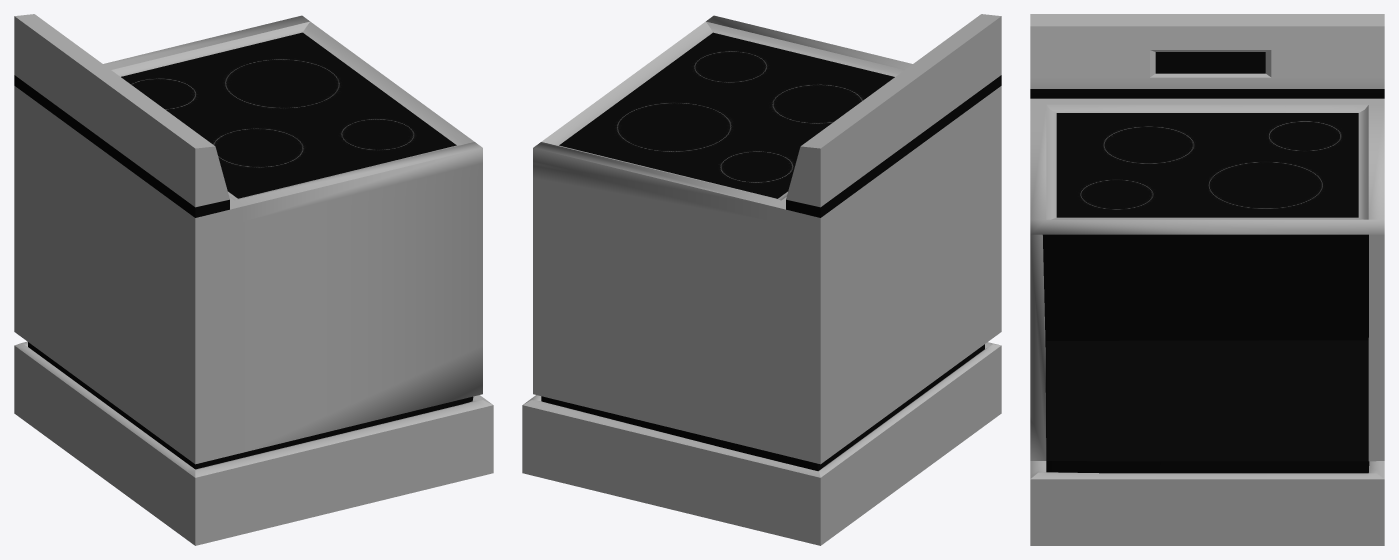
The model's file is Oven.fbx.
3 renders of one model, left to right at view 1: azimuth 30°, elevation 25°; view 2: azimuth 150°, elevation 25°; view 3: azimuth 270°, elevation 25°, orthographic. The views are drawn at different scales.
Visible parts, largest first — view 1: Stove; view 2: Stove; view 3: Stove.
Boxes of the visible parts, <box> form: Stove: <box>14,14,493,545</box>; Stove: <box>522,14,1001,545</box>; Stove: <box>1030,14,1384,545</box>.
Size of the model in its own units: 211 by 268 by 221.
